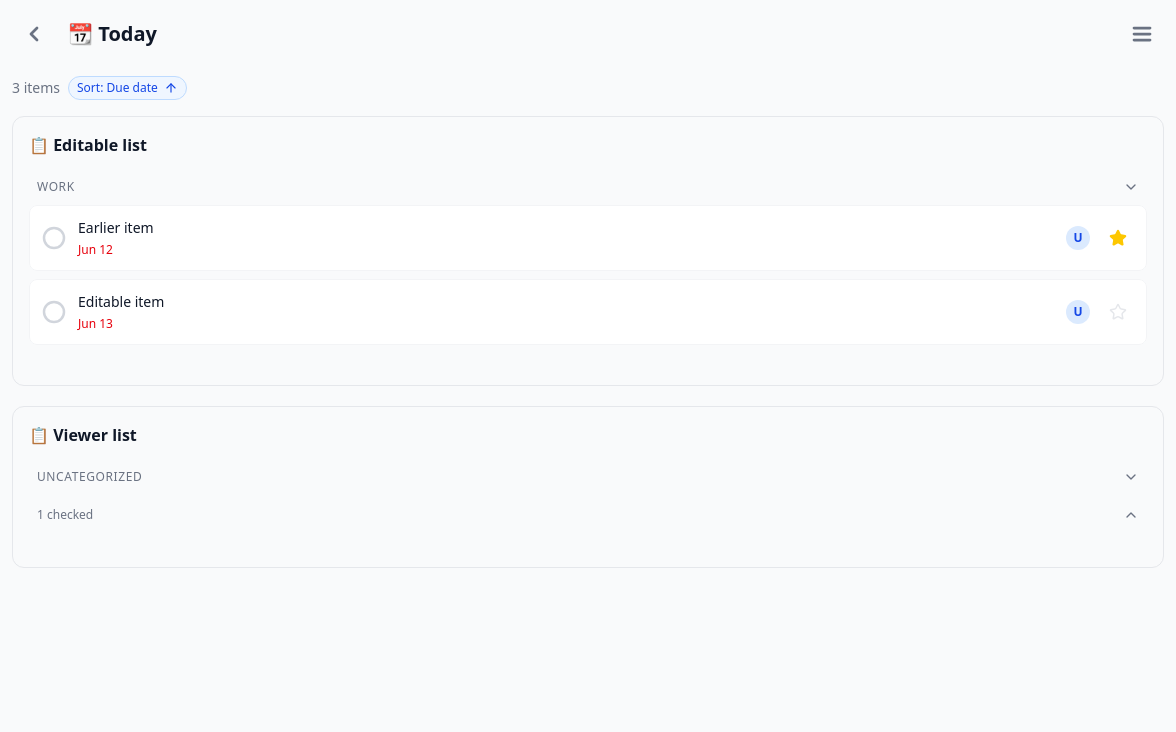
Scenario: Today page › shows summary state and opens sort controls from the summary
Expected: the text "3 items" is shown, [12,78,60,98]
Click the button with aria-label "Change sort order: Due date ascending".
click(127, 88)  # box [69,77,186,99]
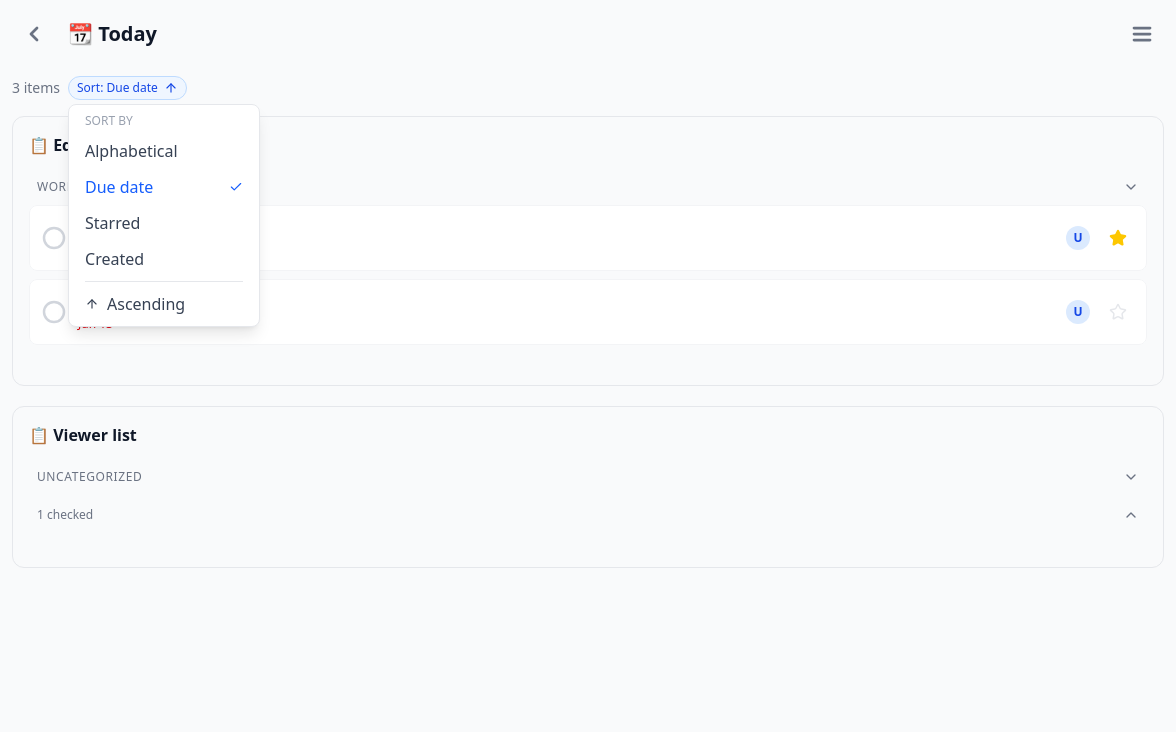
Now the text "Sort by" is shown, box [85,112,133,129]
Click the button "Alphabetical".
click(164, 151)  # box [69,133,259,169]
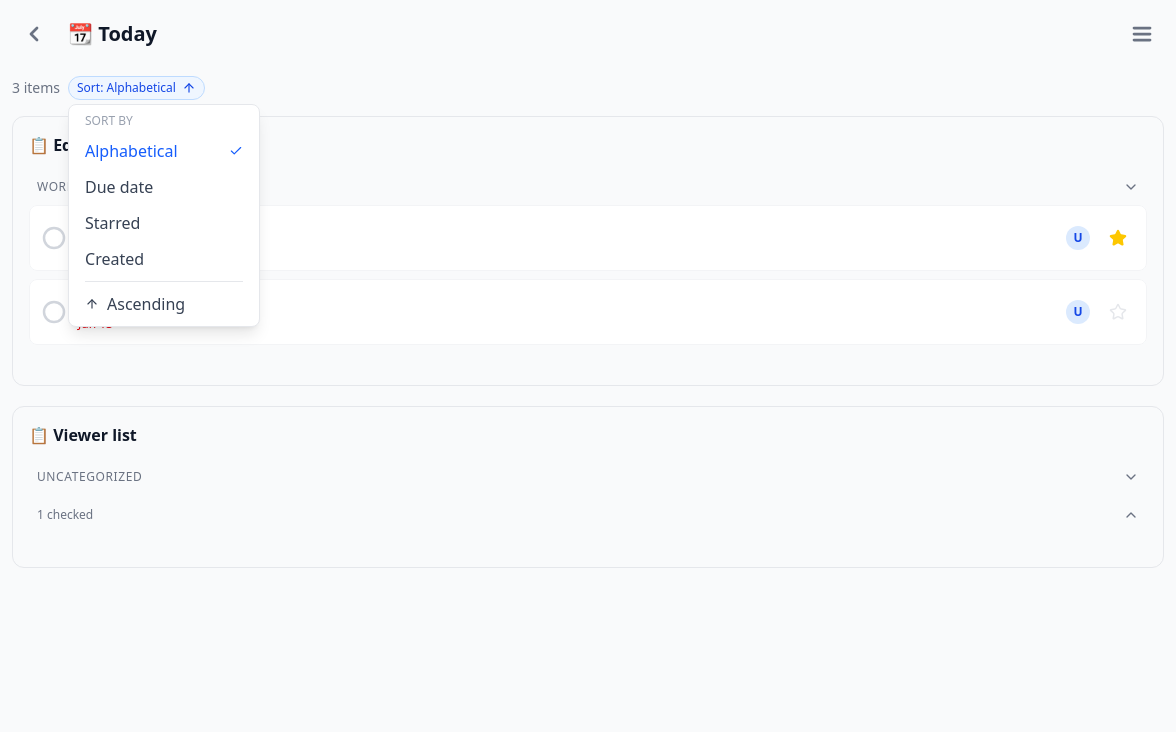
Now the button with aria-label "Change sort order: Alphabetical ascending" is shown, box [69,77,204,99]
Click the button "Ascending".
click(164, 304)  # box [69,286,259,322]
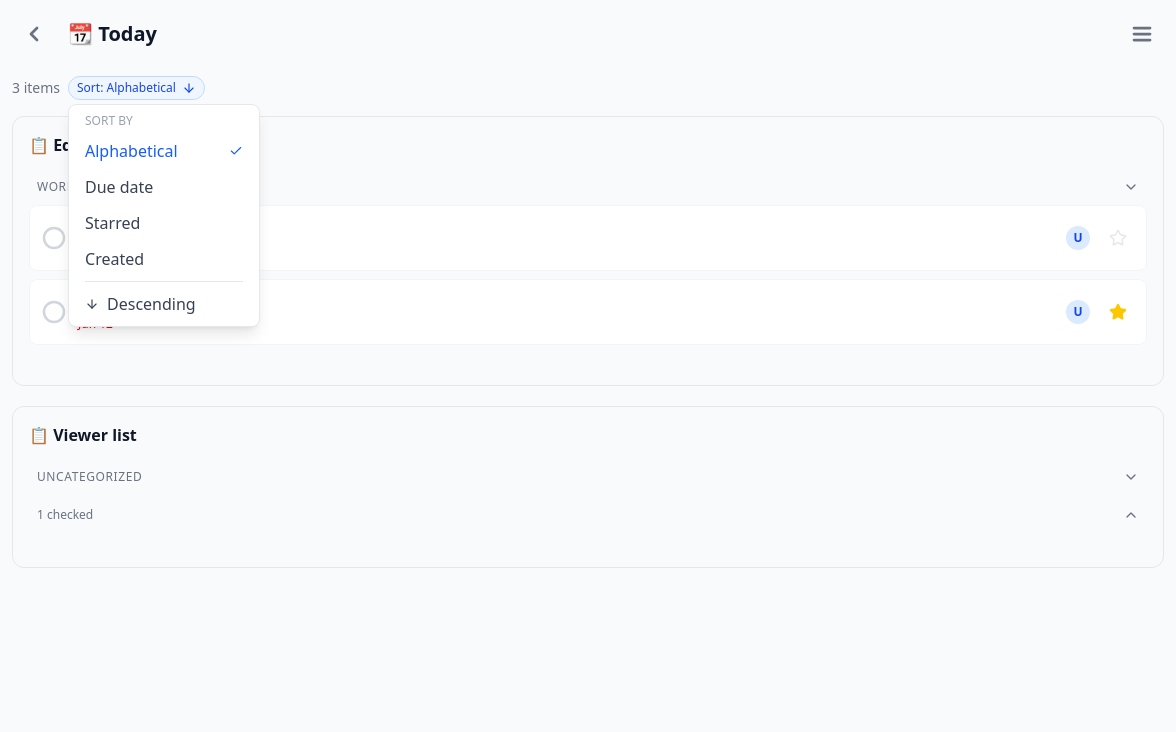
Now the button with aria-label "Change sort order: Alphabetical descending" is shown, box [69,77,204,99]
